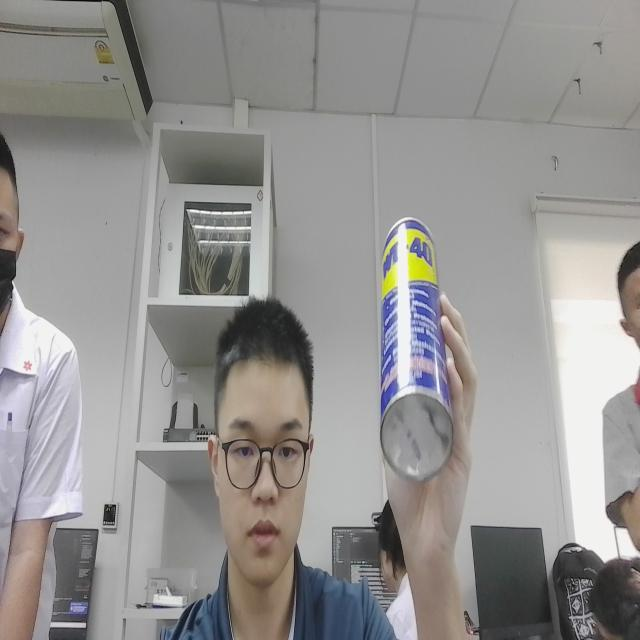wd-40: (365, 203, 458, 494)
